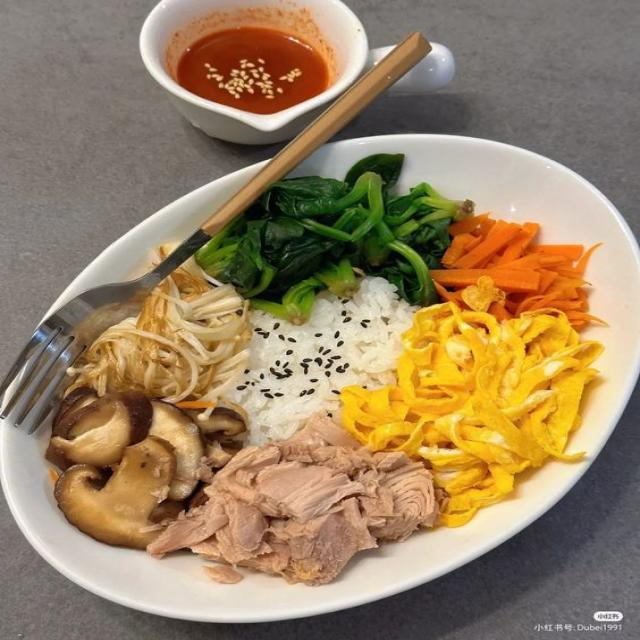Carbohydrate: (208, 276, 405, 442)
Kaow-Yum: (2, 130, 640, 623)
Protein: (157, 296, 592, 582)
Vegetable: (197, 152, 610, 335), (62, 243, 246, 555)
